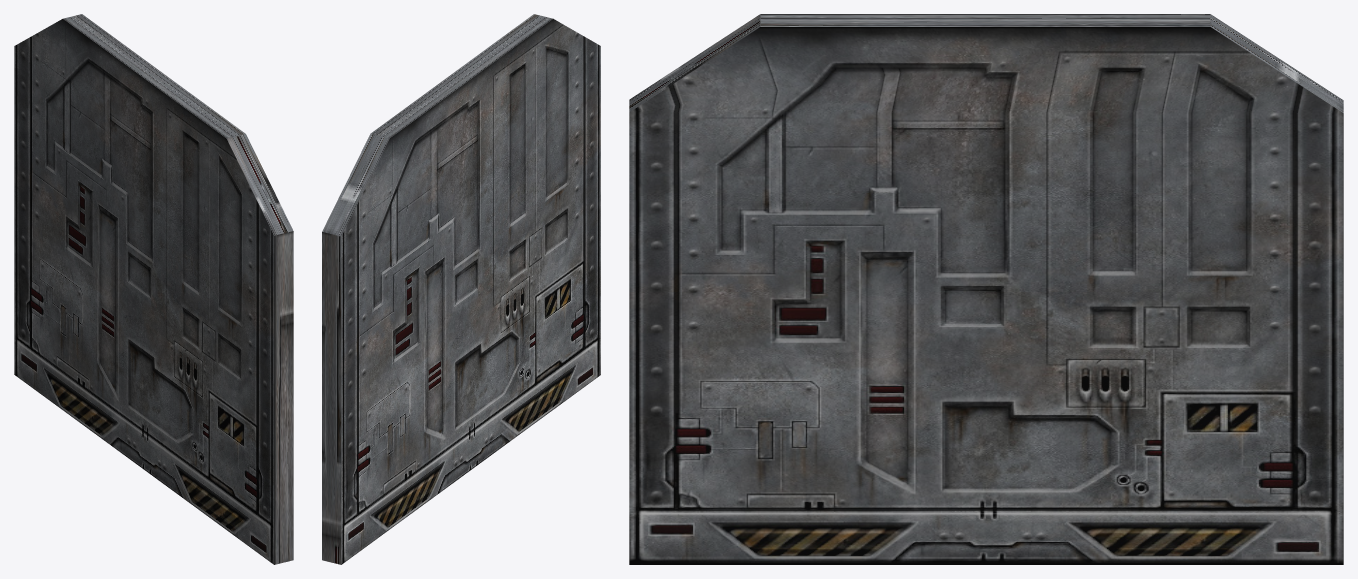
The model's file is Doors.fbx.
3 renders of one model, left to right at view 1: azimuth 30°, elevation 25°; view 2: azimuth 150°, elevation 25°; view 3: azimuth 270°, elevation 25°, orthographic. The views are drawn at different scales.
Visible parts, largest first — view 1: Door; view 2: Door; view 3: Door.
Boxes of the visible parts, x1=… form: Door: x1=14, y1=14, x2=293, y2=564; Door: x1=322, y1=14, x2=600, y2=564; Door: x1=629, y1=14, x2=1343, y2=564.
Bounding box in the file's own units: 33.95 × 657 × 790.
